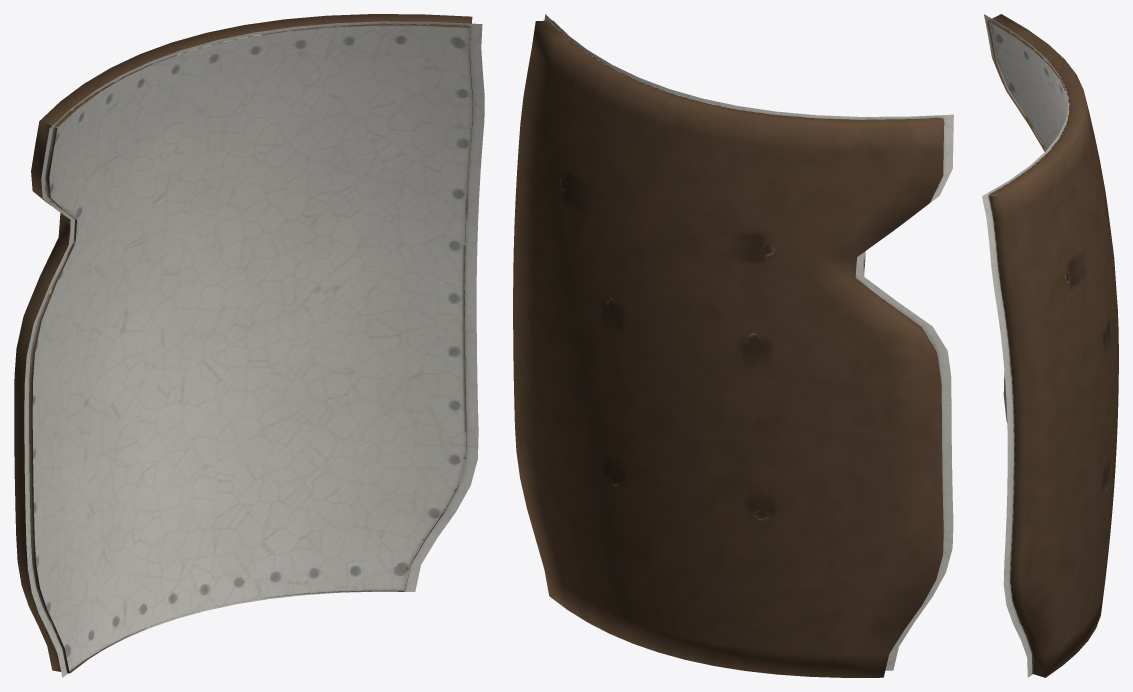
File: targe_512.glb
The picture shows the model from 3 angles, left to right: view 1: azimuth 30°, elevation 25°; view 2: azimuth 150°, elevation 25°; view 3: azimuth 270°, elevation 25°; orthographic projection. The views are drawn at different scales.
Visible parts, largest first — view 1: shield_face, shield_back; view 2: shield_back, shield_face; view 3: shield_back, shield_face.
Boxes of the visible parts, x1,y1,x2,y2 form: shield_face: (24,21,484,677); shield_back: (14,14,472,673); shield_back: (513,20,944,677); shield_face: (544,14,953,670); shield_back: (987,14,1118,677); shield_face: (982,14,1068,677).
Size of the model in its own units: 0.41 by 0.5 by 0.1243.
1 material, 1 textured.
